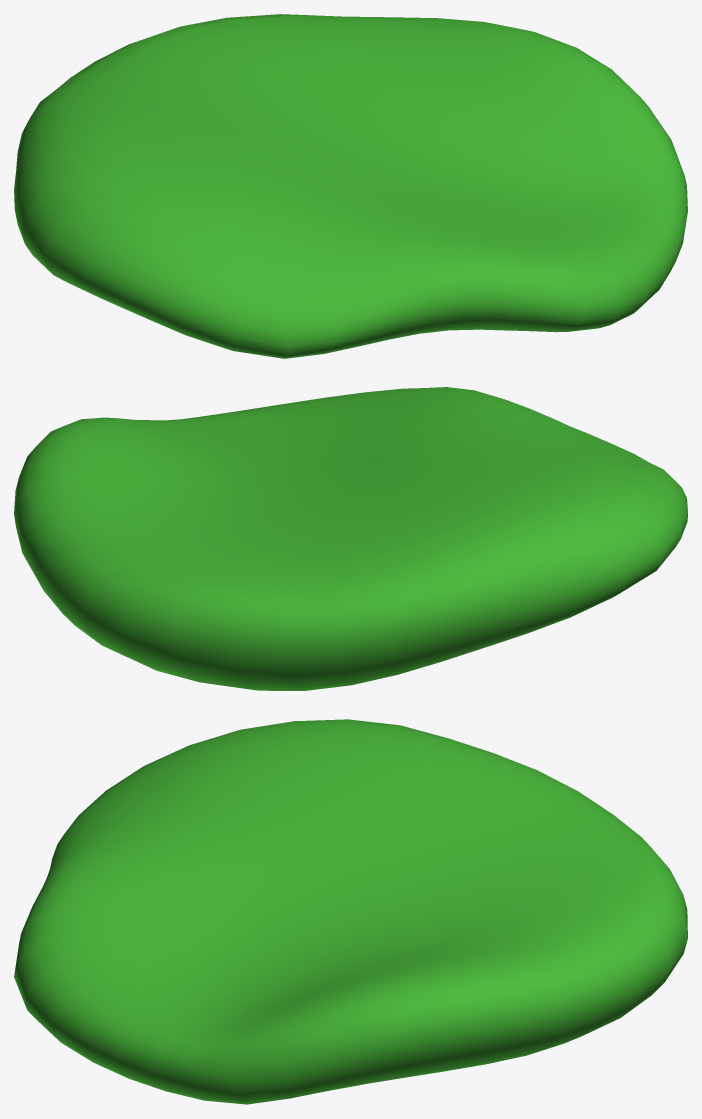
File: SM_Ponpon_Salad_Piece.fbx
The picture shows the model from 3 angles, top to bottom: view 1: azimuth 30°, elevation 25°; view 2: azimuth 150°, elevation 25°; view 3: azimuth 270°, elevation 25°; orthographic projection. The views are drawn at different scales.
Parts seen in each view (by area): view 1: SM_Ponpon_Salad_Piece; view 2: SM_Ponpon_Salad_Piece; view 3: SM_Ponpon_Salad_Piece.
Part boxes in pixels (x1,y1,x2,y2): SM_Ponpon_Salad_Piece: [14, 14, 687, 358]; SM_Ponpon_Salad_Piece: [14, 387, 687, 690]; SM_Ponpon_Salad_Piece: [14, 719, 687, 1104].
Bounding box in the file's own units: 1.1 × 0.2711 × 1.06.
